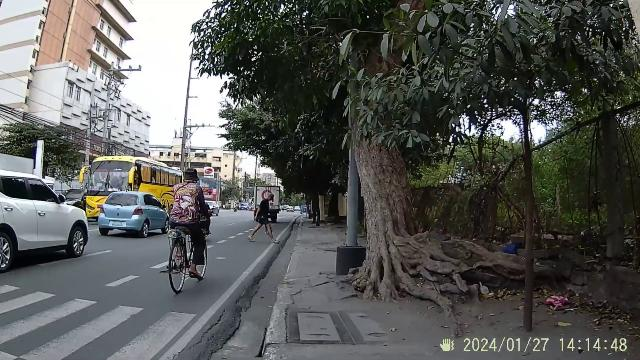cracked_pavement: (289, 274, 343, 304)
tree: (354, 144, 516, 304)
